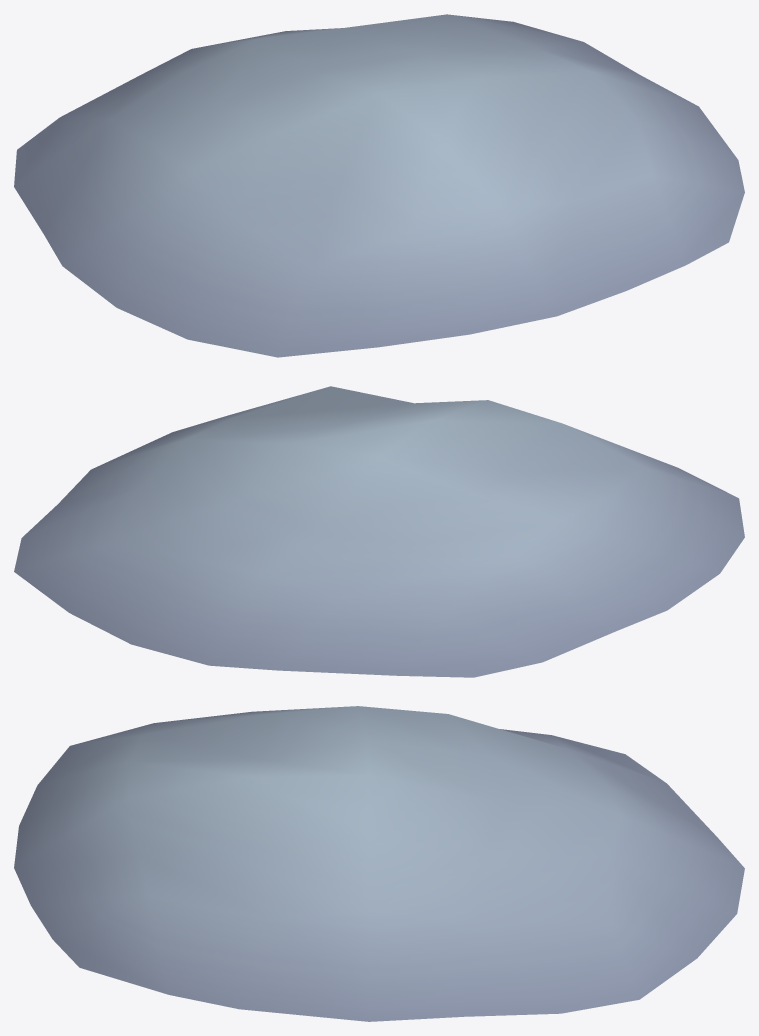
The model's file is mt-snowdrift01.fbx.
3 views of the same model, one above another, from view 1: azimuth 30°, elevation 25°; view 2: azimuth 150°, elevation 25°; view 3: azimuth 270°, elevation 25° (orthographic). The views are drawn at different scales.
Visible parts, largest first — view 1: Plane.007; view 2: Plane.007; view 3: Plane.007.
Part boxes in pixels (box(x1,y1,x2,y2)): Plane.007: box(14, 14, 744, 357); Plane.007: box(14, 386, 744, 677); Plane.007: box(14, 706, 744, 1021).
Size of the model in its own units: 500 by 71.67 by 494.
Materials: 1 (1 with a texture image).
